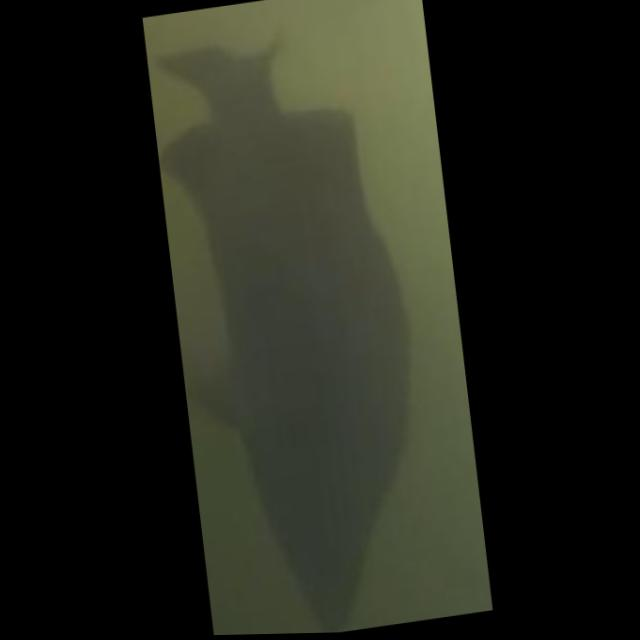Seabass: (141, 9, 453, 637)
